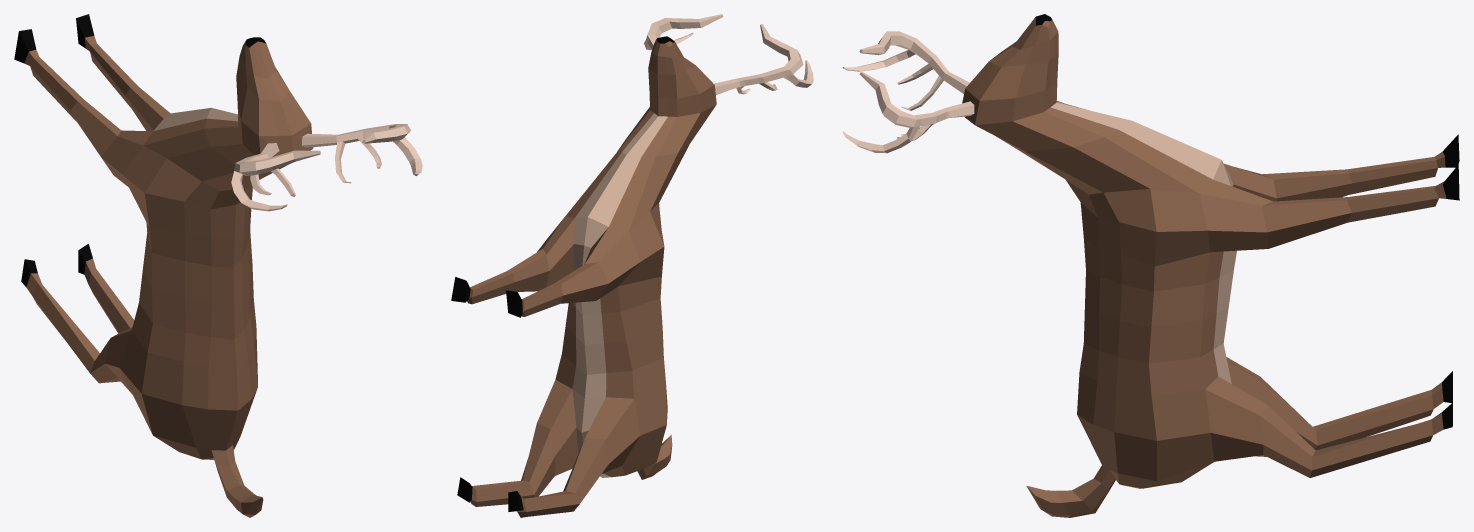
The model's file is Deer_1.obj.
3 renders of one model, left to right at view 1: azimuth 30°, elevation 25°; view 2: azimuth 150°, elevation 25°; view 3: azimuth 270°, elevation 25°, orthographic. The views are drawn at different scales.
Visible parts, largest first — view 1: 05deerFinal; view 2: 05deerFinal; view 3: 05deerFinal.
Boxes of the visible parts, x1,y1,x2,y2 form: 05deerFinal: [14, 14, 422, 517]; 05deerFinal: [451, 14, 813, 517]; 05deerFinal: [842, 14, 1459, 517].
Size of the model in its own units: 0.7144 by 1.83 by 2.03.
Materials: 1 (1 with a texture image).
